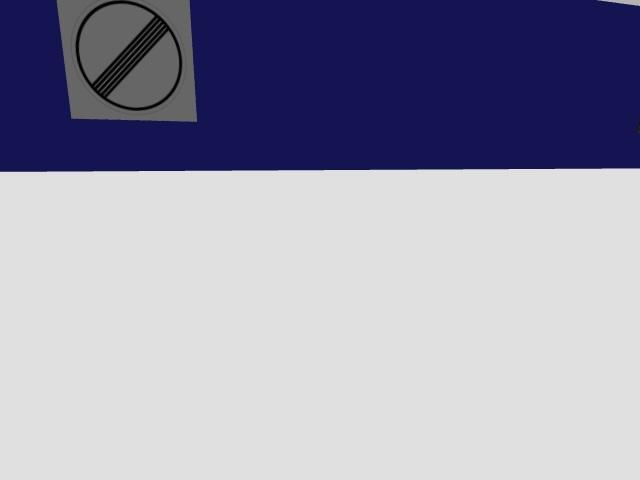fastsign: (57, 0, 195, 121)
